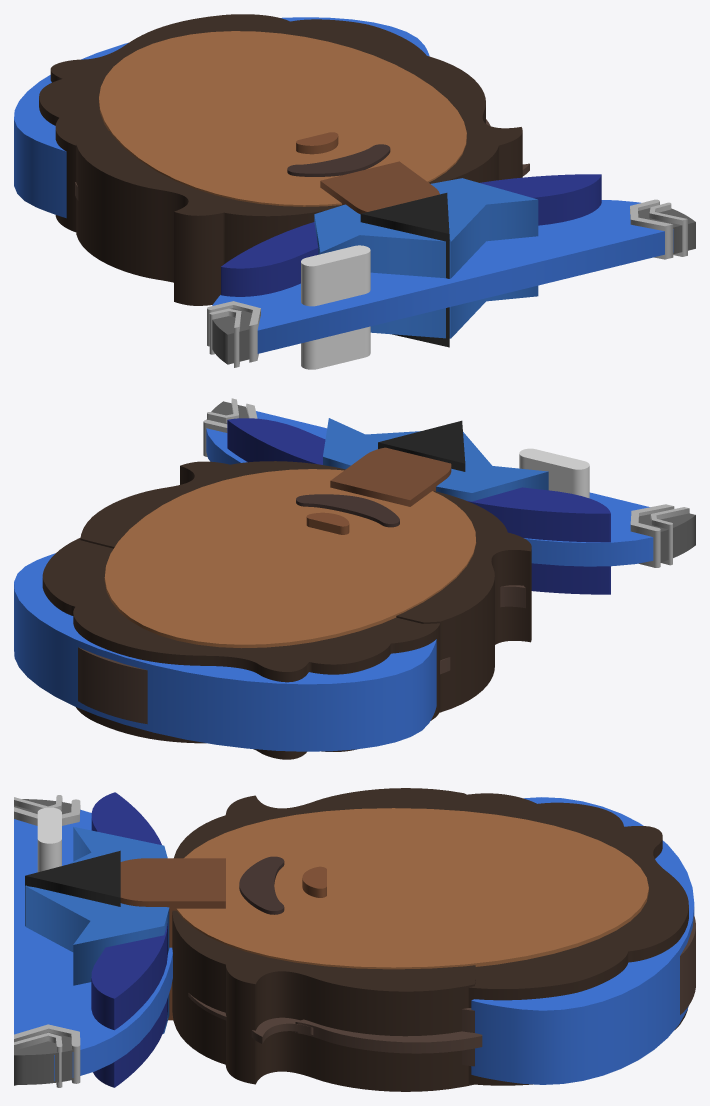
File: emoji_u1f46e_1f3fe.glb
3 renders of one model, top to bottom at view 1: azimuth 30°, elevation 25°; view 2: azimuth 150°, elevation 25°; view 3: azimuth 270°, elevation 25°, orthographic. The views are drawn at different scales.
Visible parts, largest first — view 1: emoji_u1f46e_1f3fe; view 2: emoji_u1f46e_1f3fe; view 3: emoji_u1f46e_1f3fe.
Part boxes in pixels (x1=…): emoji_u1f46e_1f3fe: x1=14, y1=14, x2=695, y2=369; emoji_u1f46e_1f3fe: x1=14, y1=398, x2=695, y2=759; emoji_u1f46e_1f3fe: x1=14, y1=788, x2=695, y2=1091.
Bounding box in the file's own units: 0.0294 × 0.0068 × 0.0333.
